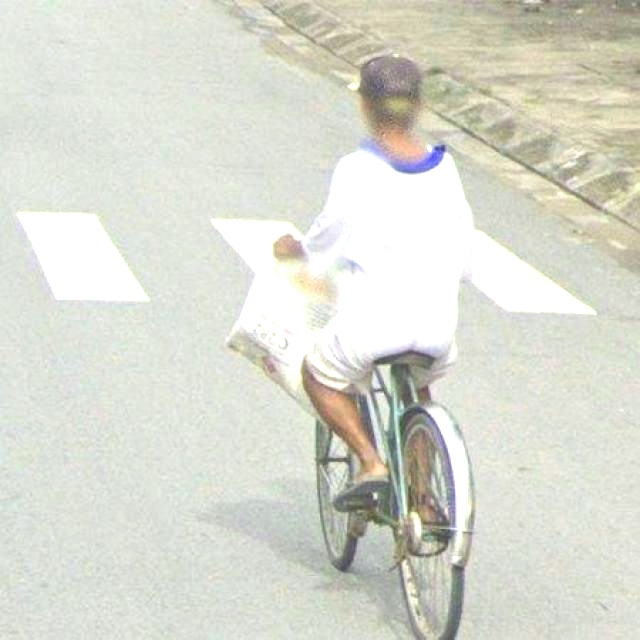bicycle: (220, 196, 512, 640)
